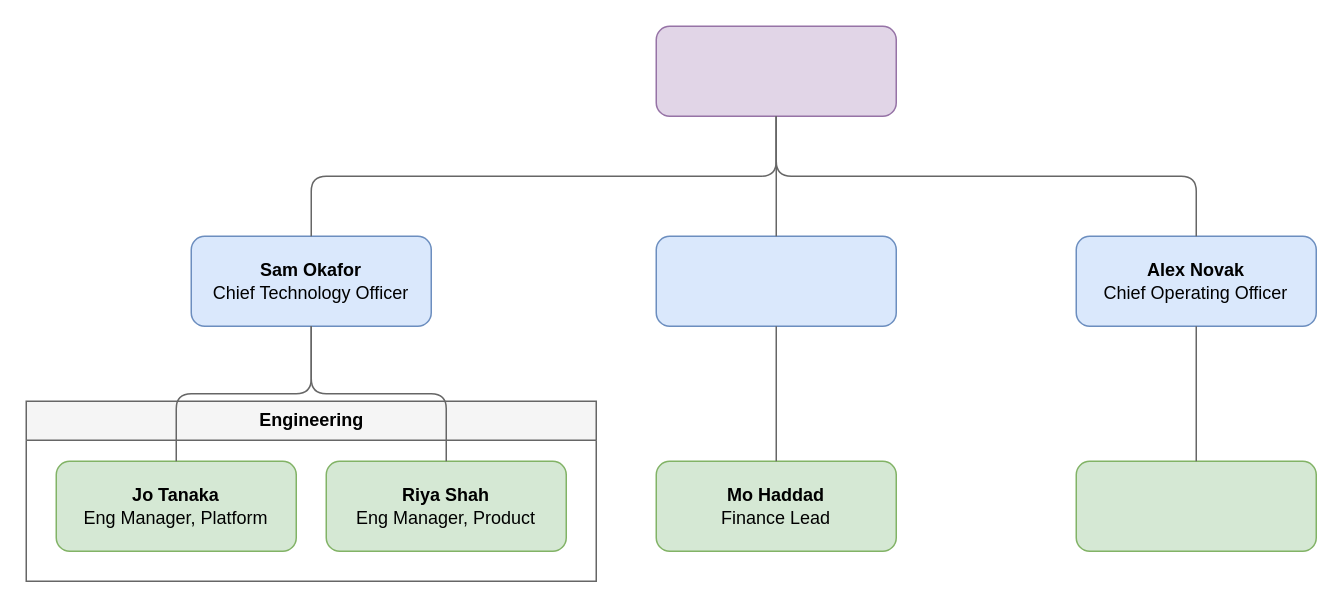
The diagram is 1343 pixels wide and 608 high, and some of its shapes have lost their labels. Each missing label, with the centre of its shape:
Dana Reyes Chief Executive Officer: [775,70]
Kim Laurent Customer Support Lead: [1195,505]
Lee Park Chief Financial Officer: [775,280]
